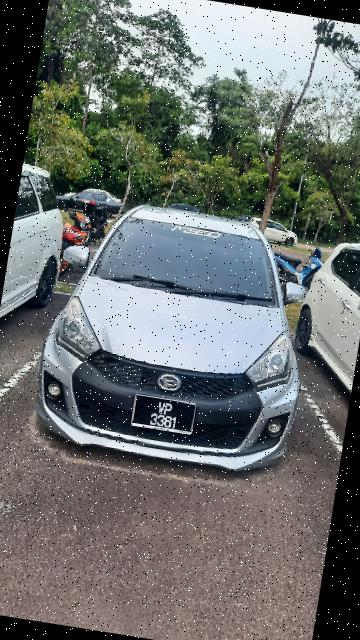License_Plate: (123, 389, 201, 441)
car: (25, 191, 330, 495)
